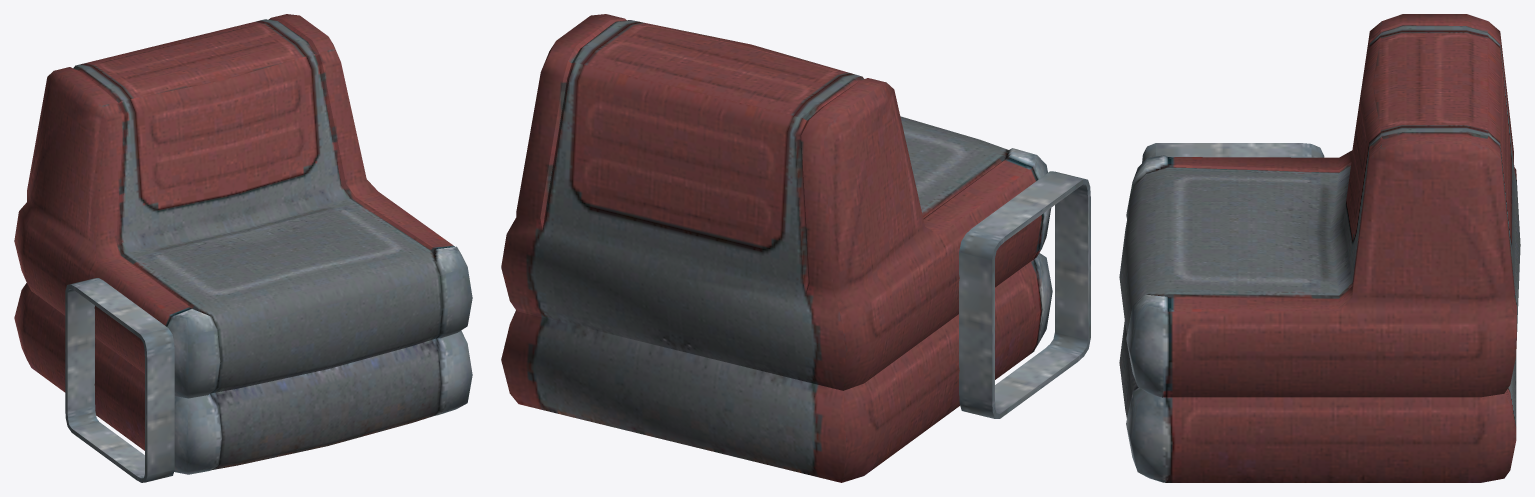
The model's file is frn_all_chair_upholstered_s1_l0.fbx.
3 renders of one model, left to right at view 1: azimuth 30°, elevation 25°; view 2: azimuth 150°, elevation 25°; view 3: azimuth 270°, elevation 25°, orthographic. The views are drawn at different scales.
Visible parts, largest first — view 1: mesh_node; view 2: mesh_node; view 3: mesh_node.
Boxes of the visible parts, x1,y1,x2,y2 form: mesh_node: (14,14,472,482); mesh_node: (501,14,1090,482); mesh_node: (1119,14,1520,482).
Size of the model in its own units: 0.8997 by 0.7625 by 0.8492.
1 material, 1 textured.
